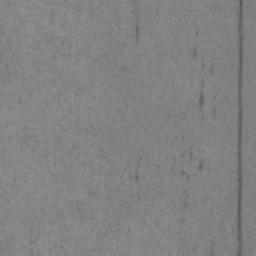Scratches: (236, 0, 244, 256)
